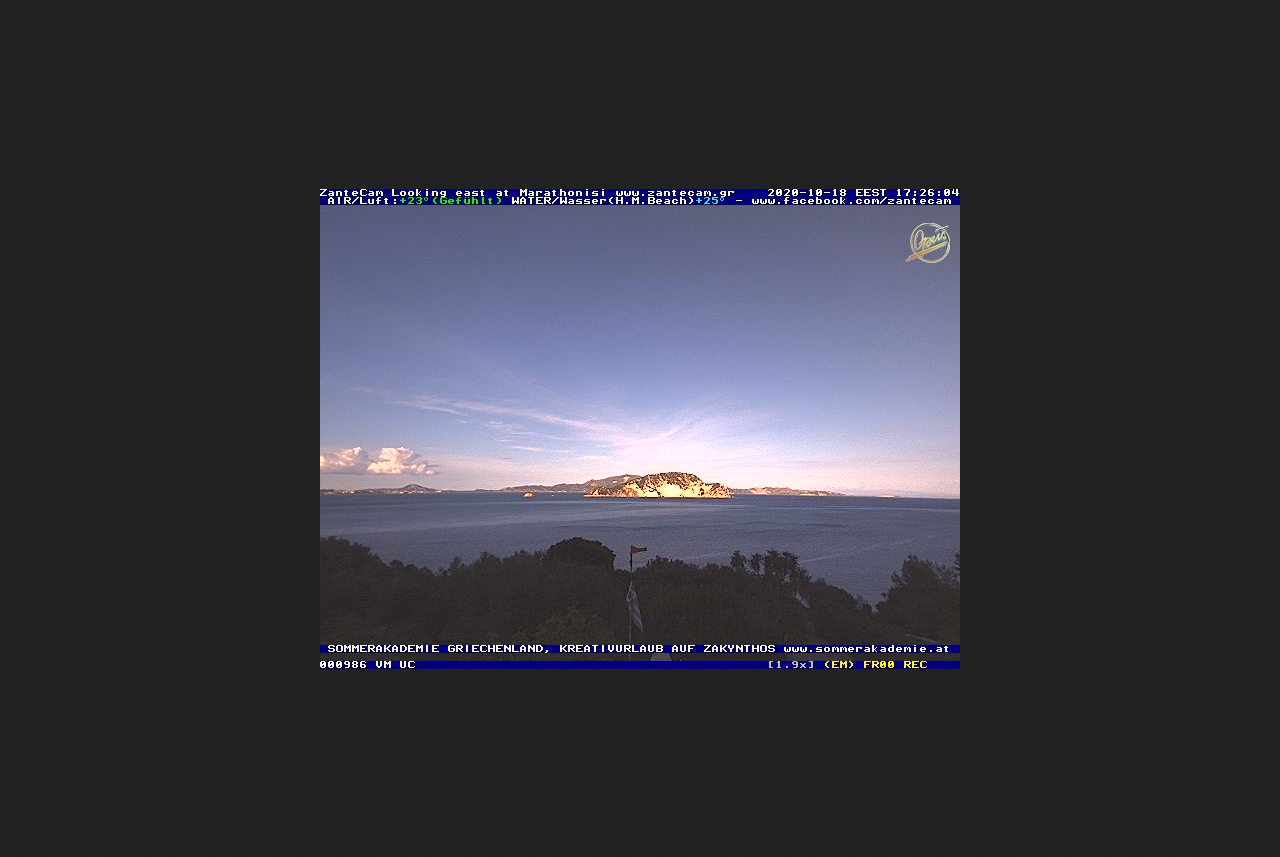no: (626, 579, 645, 631)
